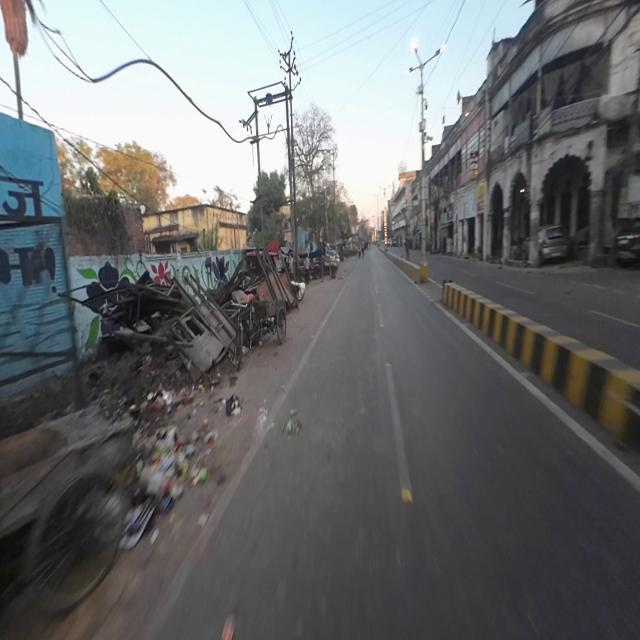Garbage: (132, 380, 200, 535)
